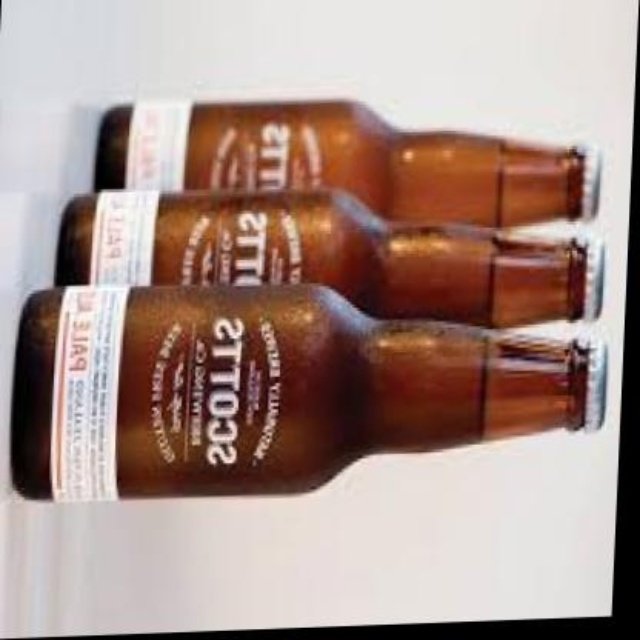trash: (11, 285, 603, 498), (151, 192, 598, 326), (185, 100, 594, 226)
